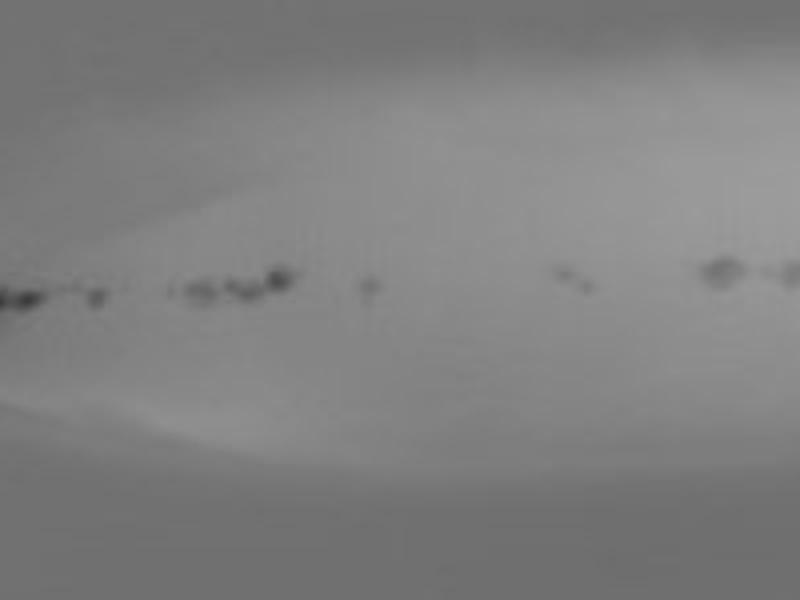defect: (695, 255, 745, 291), (183, 278, 215, 305), (261, 265, 292, 290), (12, 287, 42, 311), (235, 285, 265, 307), (87, 286, 111, 310), (780, 258, 800, 286), (357, 275, 378, 296), (575, 276, 594, 294), (554, 263, 571, 278), (1, 286, 11, 311), (220, 276, 235, 289)
